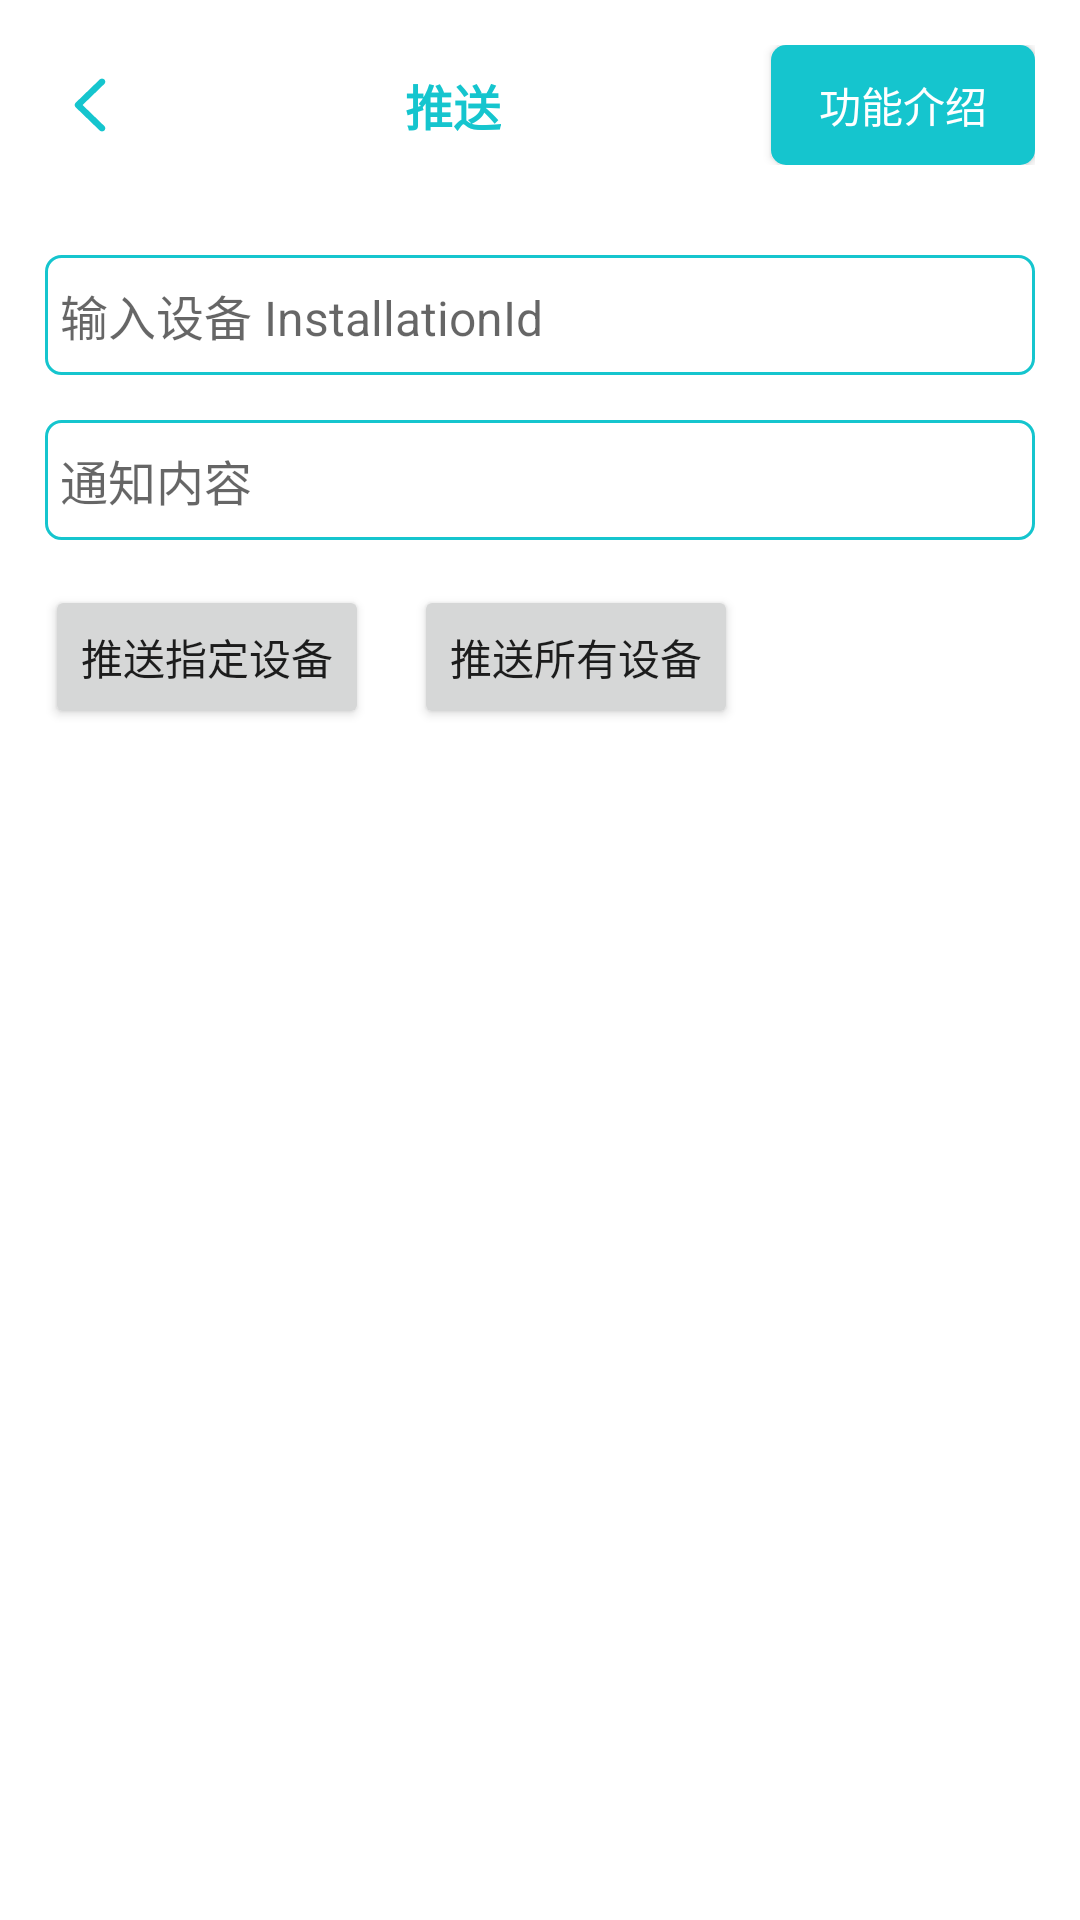

Where to tap for icons on this 1080px x 1920px app screen, as (x=x, y=y):
back: (x=90, y=105)
